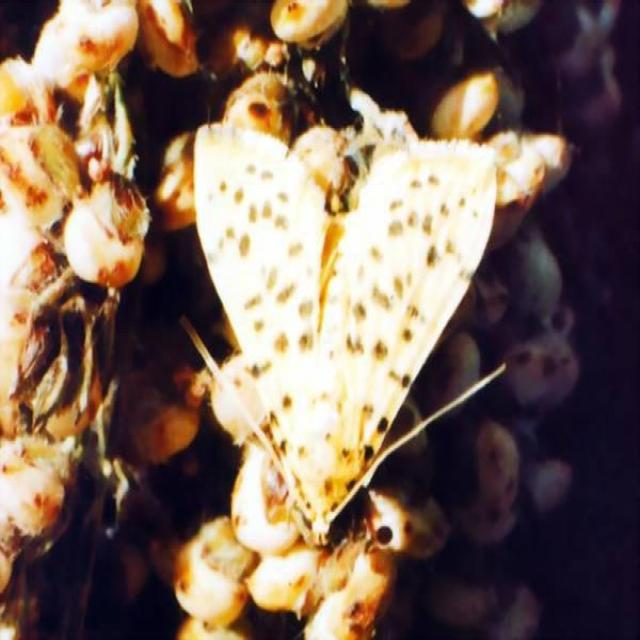peach borer: (184, 118, 505, 536)
